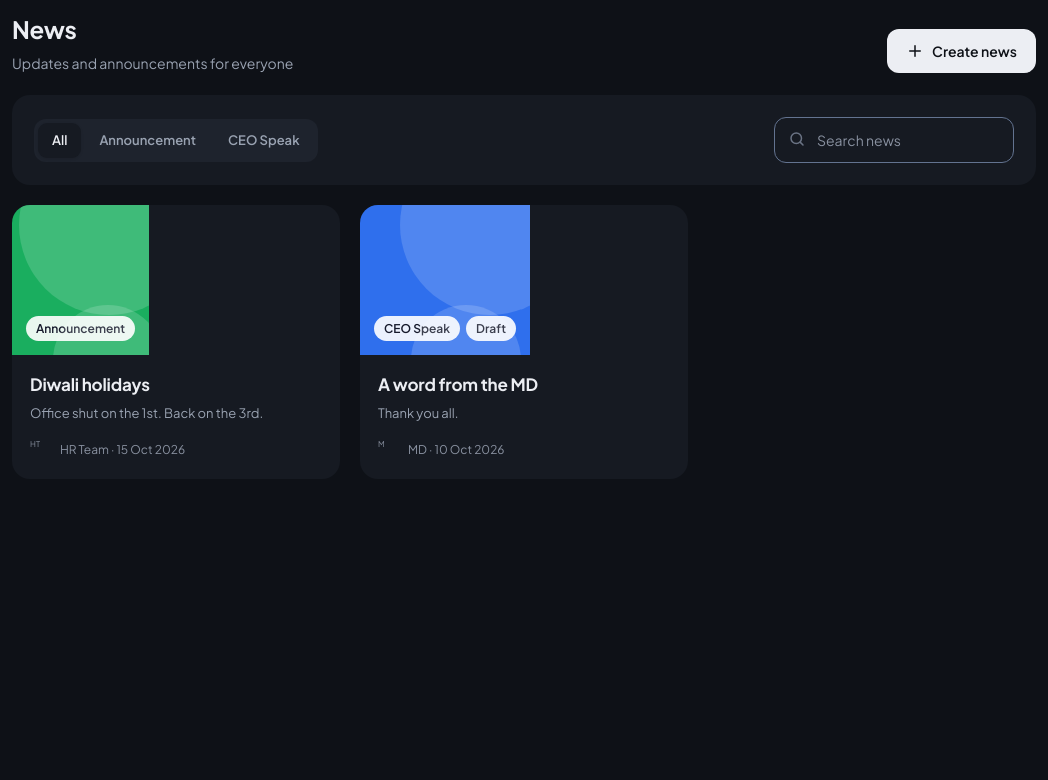
Test: News › narrows by category and by what is typed
The width and height of the screenshot is (1048, 780).
Expected: the number of buttons with class "k-news-card" is 2, [12,205,340,479]; [360,205,688,479]
Click the tab "CEO Speak": (264, 140) [214,123,314,158]
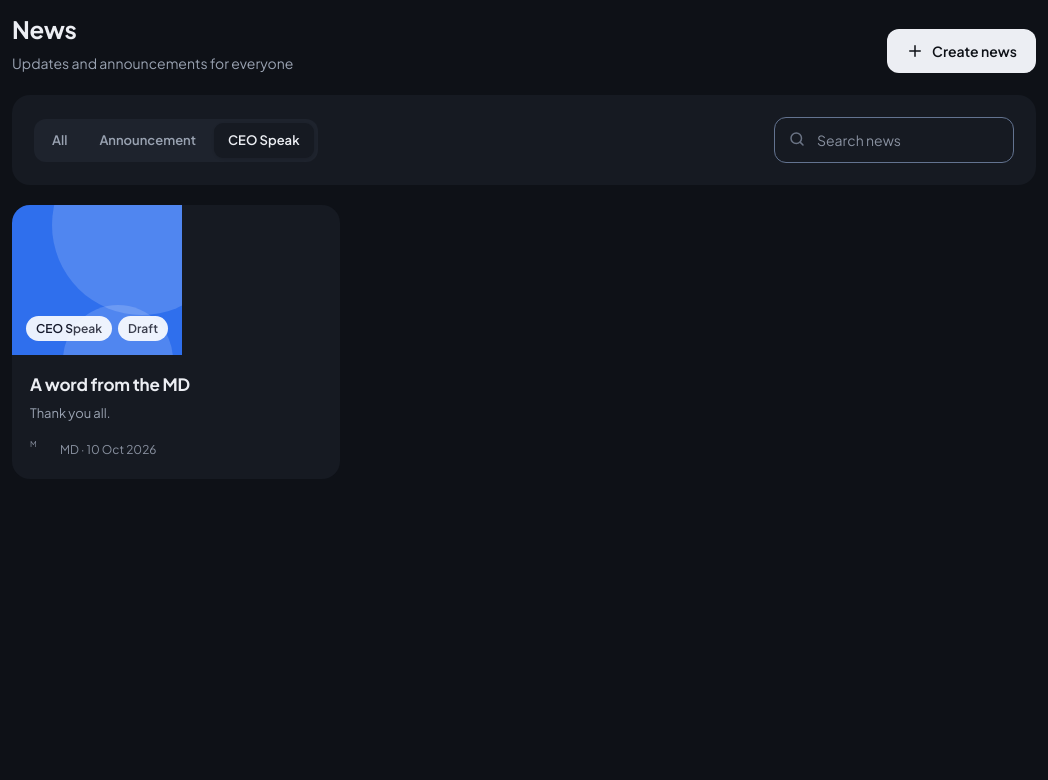
Expected: the number of buttons with class "k-news-card" is 1, [12,205,340,479]
Click the tab "All": (60, 140) [38,123,81,158]
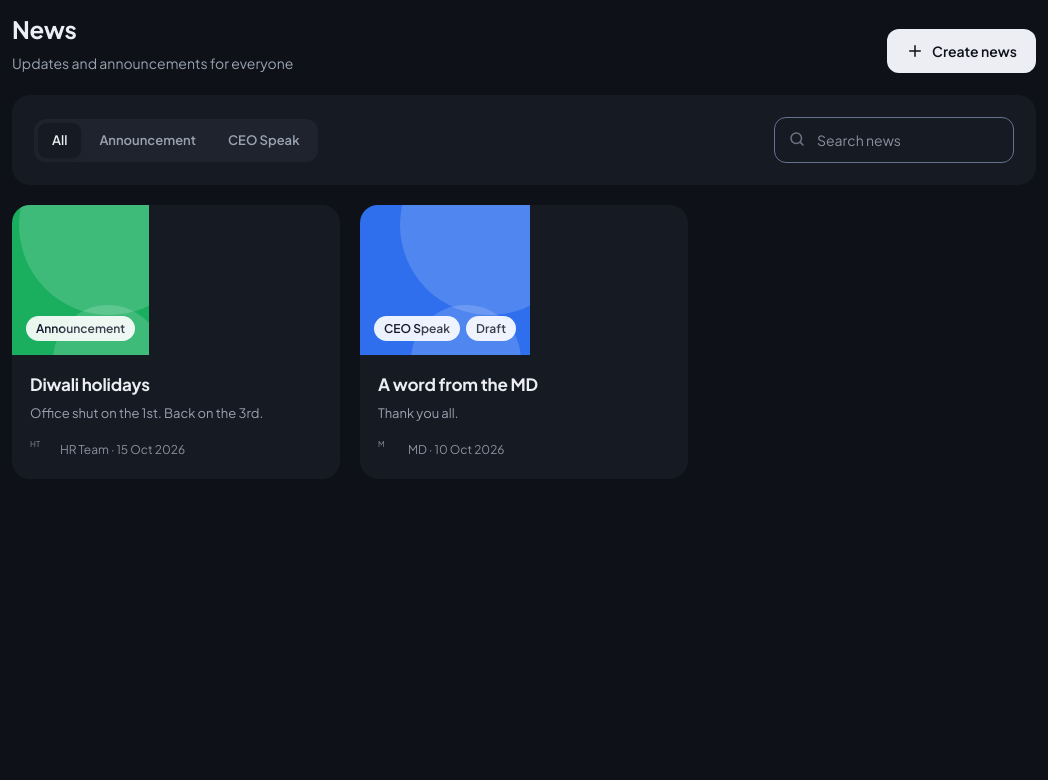
In the field named "Search news": (894, 140) [774,117,1014,163], type "back on"
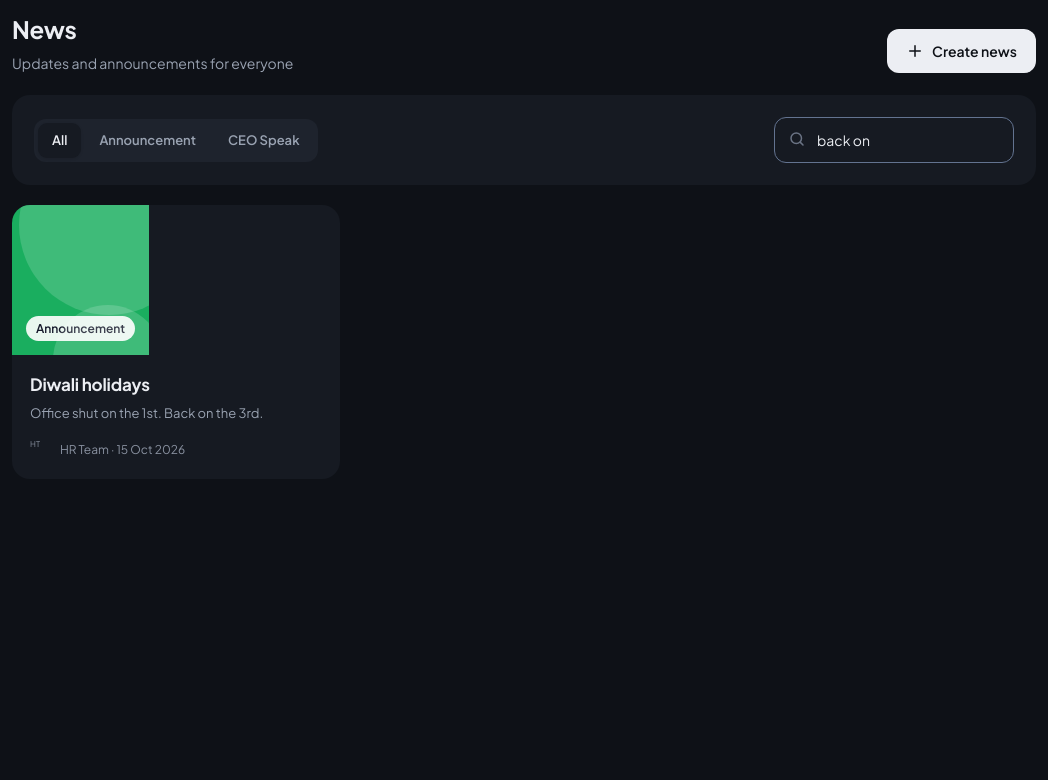
Expected: the number of buttons with class "k-news-card" is 1, [12,205,340,479]
Replace the text in the field named "Search news" with "zzzz": (894, 140) [774,117,1014,163]
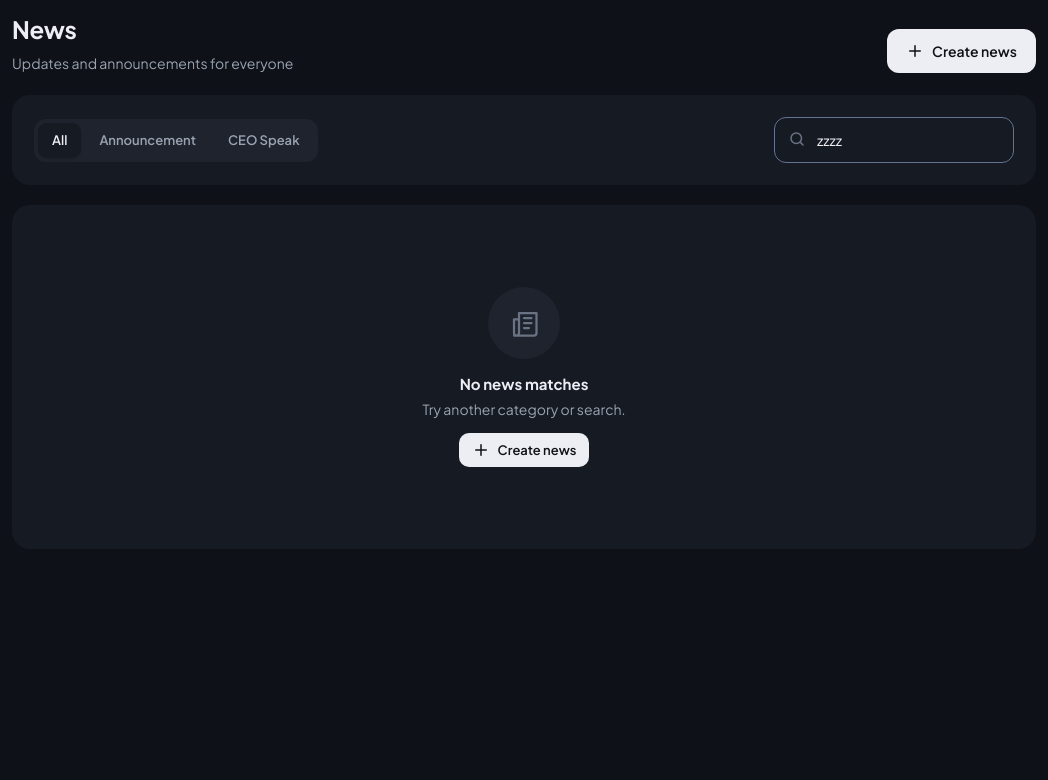
Expected: the text "No news matches" is shown, [460,374,588,393]
